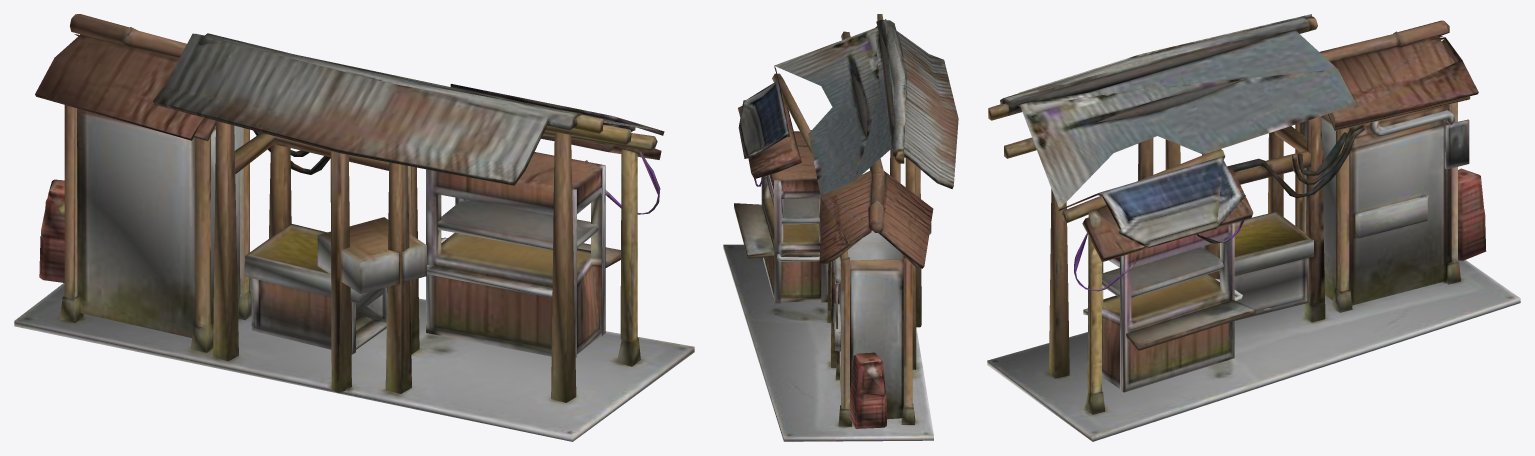
Rendered from city_food_stalls.glb.
The picture shows the model from 3 angles, left to right: view 1: azimuth 30°, elevation 25°; view 2: azimuth 150°, elevation 25°; view 3: azimuth 270°, elevation 25°; orthographic projection. The views are drawn at different scales.
Parts seen in each view (by area): view 1: Body; view 2: Body; view 3: Body.
Boxes of the visible parts, x1=… form: Body: x1=14, y1=14, x2=694, y2=441; Body: x1=723, y1=14, x2=958, y2=441; Body: x1=987, y1=14, x2=1520, y2=441.
Size of the model in its own units: 6 by 3.76 by 6.68.
Materials: 1 (1 with a texture image).
